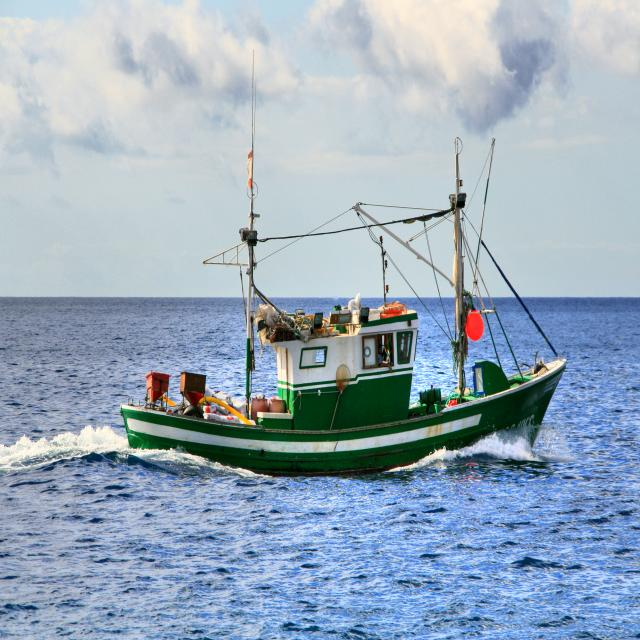Fishing Boat: (94, 120, 604, 562)
